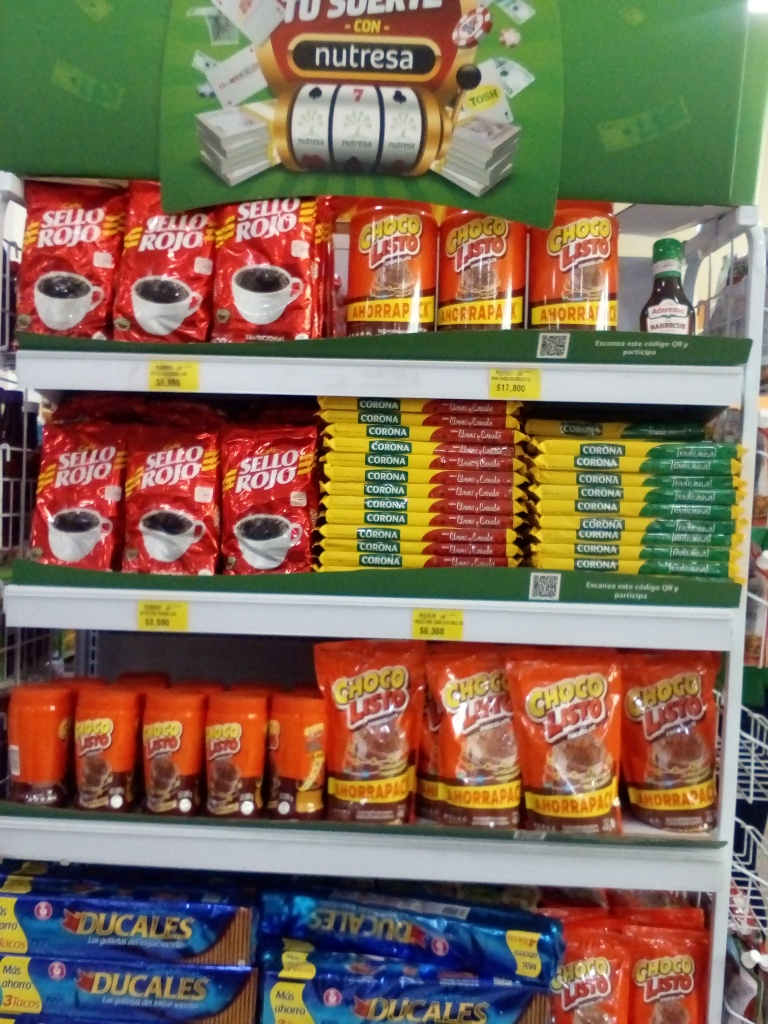COL0170103DYP44000: (616, 648, 721, 836)
COL0170103TRR00100: (526, 189, 620, 332)
